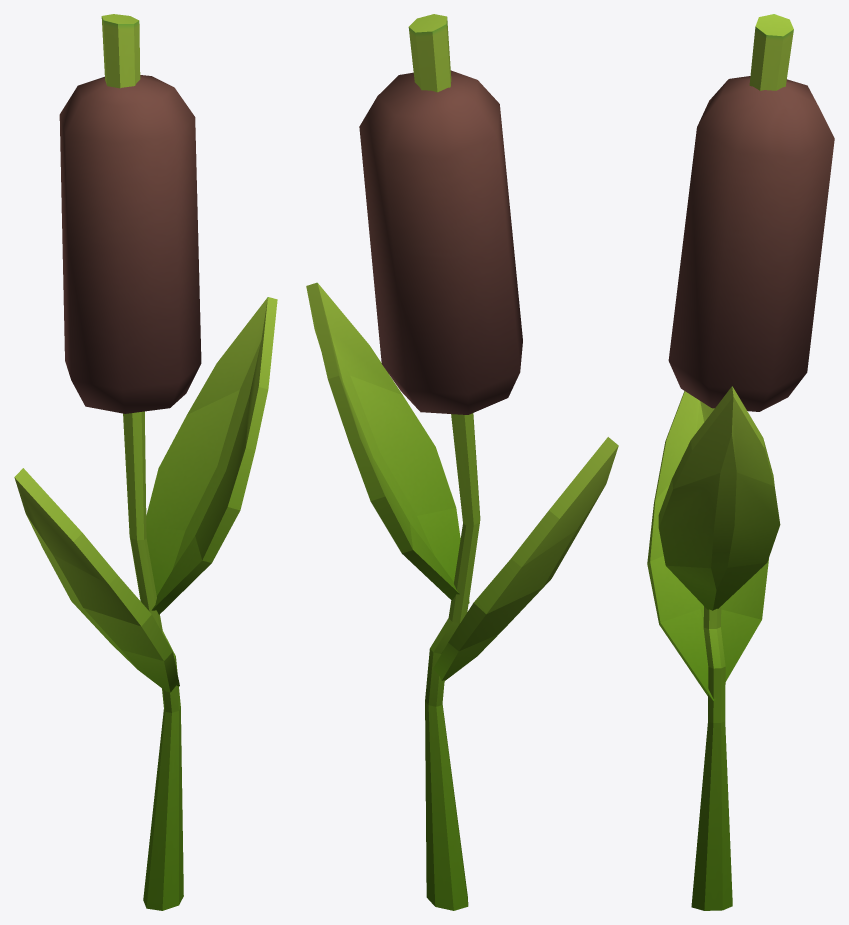
The model's file is Reed.fbx.
3 renders of one model, left to right at view 1: azimuth 30°, elevation 25°; view 2: azimuth 150°, elevation 25°; view 3: azimuth 270°, elevation 25°, orthographic. The views are drawn at different scales.
Parts seen in each view (by area): view 1: Reed; view 2: Reed; view 3: Reed.
Part boxes in pixels (<box>): Reed: <box>14,14,277,910</box>; Reed: <box>306,14,618,910</box>; Reed: <box>647,14,834,910</box>.
Size of the model in its own units: 0.3958 by 1.17 by 0.2257.
